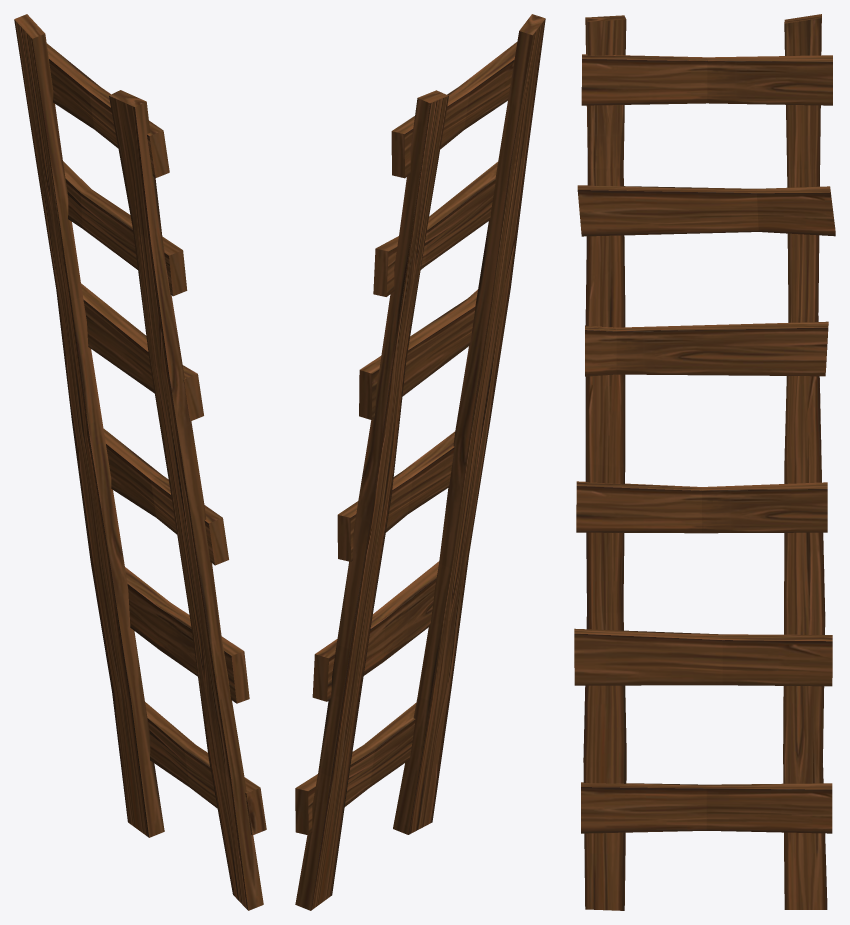
File: Ladder.fbx
3 views of the same model, side by side, from view 1: azimuth 30°, elevation 25°; view 2: azimuth 150°, elevation 25°; view 3: azimuth 270°, elevation 25° (orthographic).
Visible parts, largest first — view 1: Ladder.001; view 2: Ladder.001; view 3: Ladder.001.
Part boxes in pixels (x1,y1,x2,y2): Ladder.001: [14, 14, 266, 910]; Ladder.001: [295, 14, 545, 910]; Ladder.001: [574, 14, 835, 910].
Bounding box in the file's own units: 0.5018 × 2.87 × 0.8133.
Materials: 1 (1 with a texture image).
